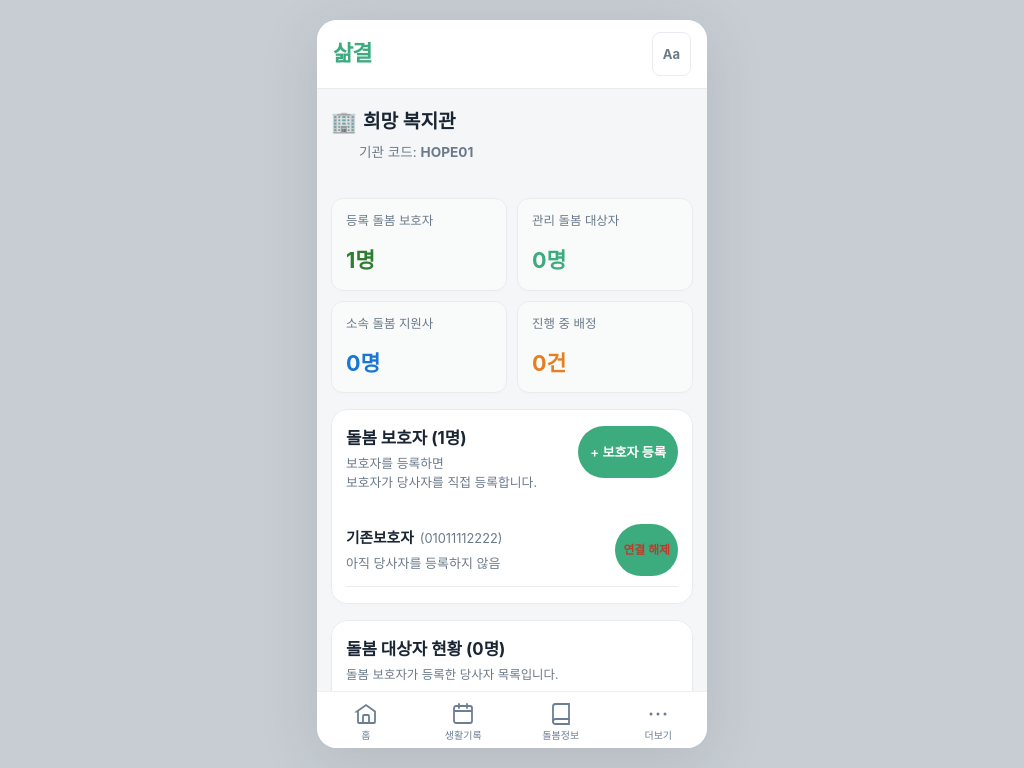
Test: 홈 대시보드에서 돌봄 보호자 등록 모달을 통해 보호자를 등록할 수 있다
Expected: the text "기존보호자" is shown, 346,527 -> 414,551
// + 보호자 등록 버튼 클릭
Click the button "+ 보호자 등록".
click(628, 452)  # box 578,426 -> 678,478
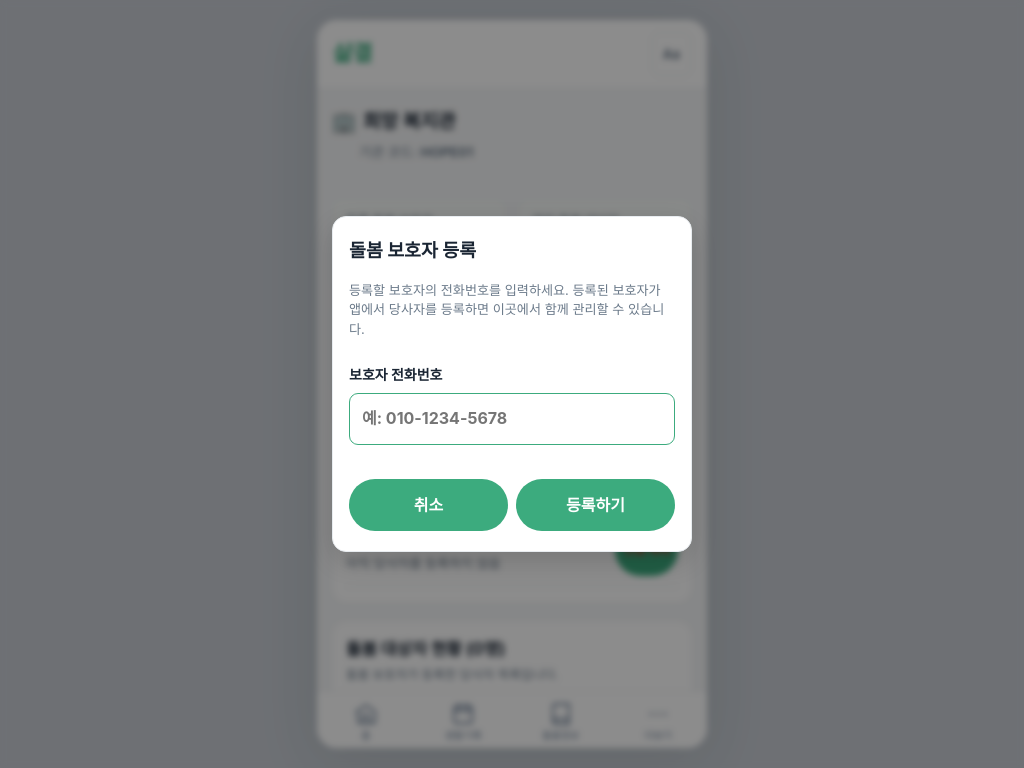
//  전화번호 입력
Type "010-9999-8888" into the field labelled "보호자 전화번호".
click(512, 419); type("010-9999-8888")  # box 349,393 -> 675,445
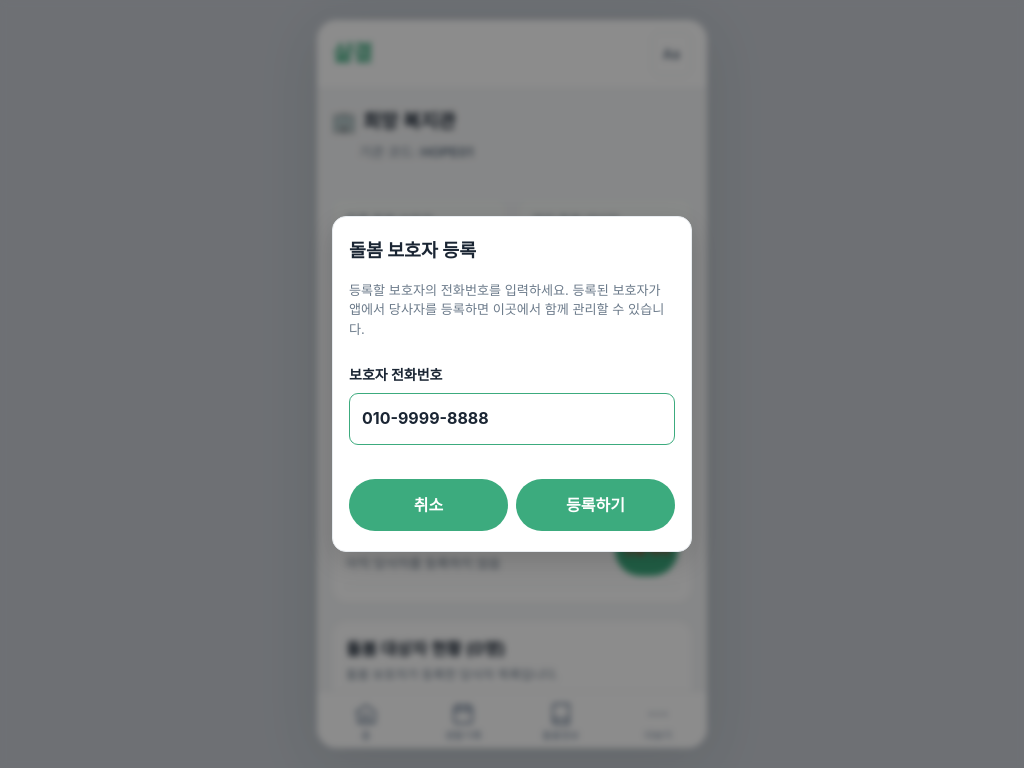
Click the button "등록하기".
click(596, 505)  # box 516,479 -> 675,531
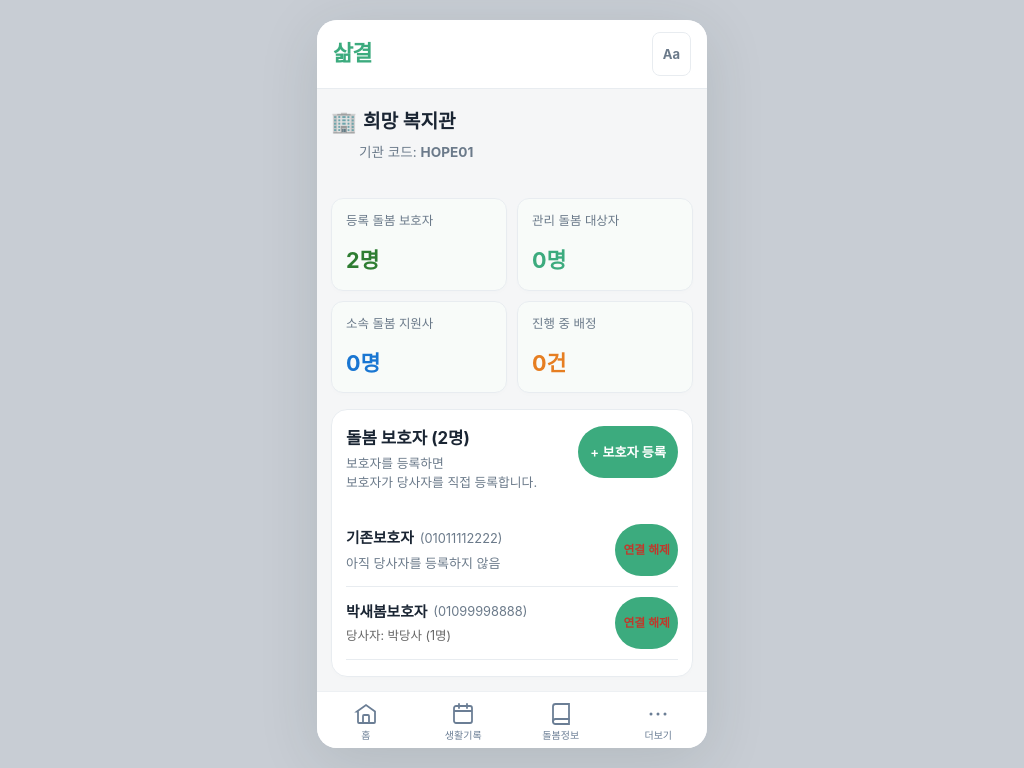
Expected: the text "박새봄보호자" is shown, 346,601 -> 427,624
Expected: the text "당사자: 박당사 (1명)" is shown, 346,628 -> 451,643
